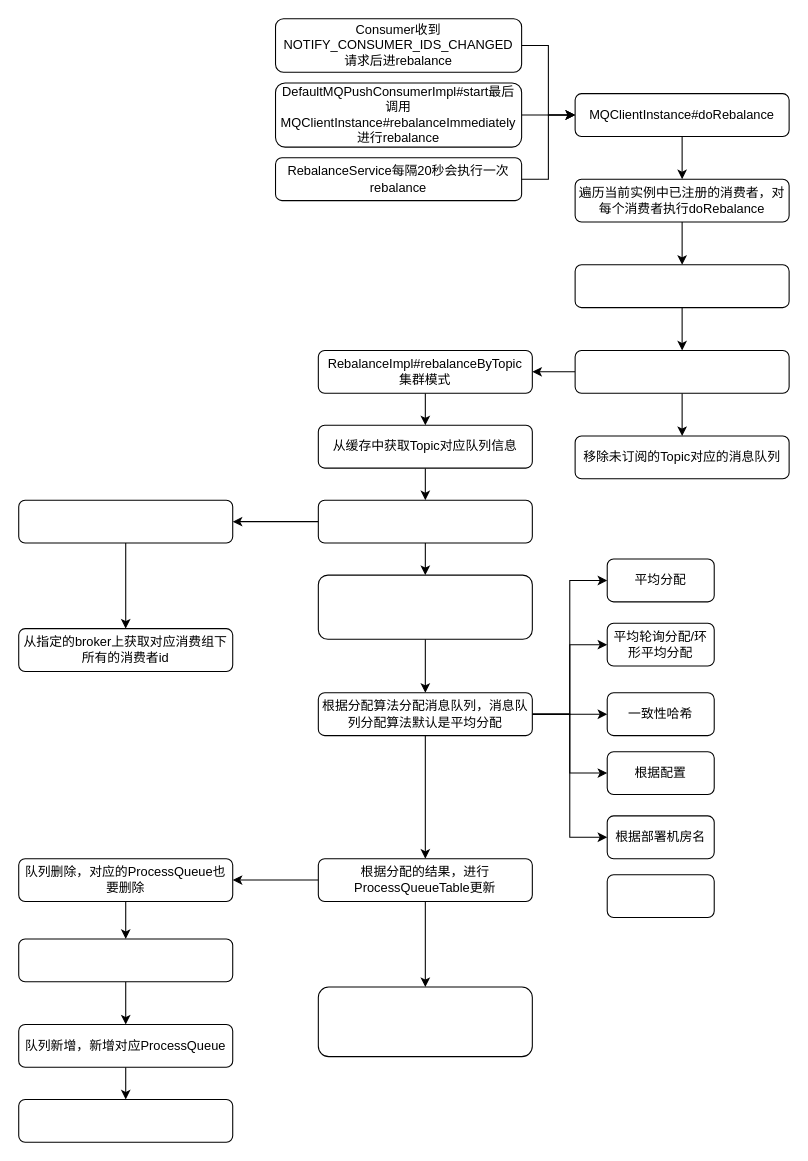
This 808x1161 diagram has some shape labels left out. The centre of each missing label's shape, as x and y in pixels:
ProcessQueue超过2分钟没有拉取下次，也需要删除: the point at 125,960
RebalanceImpl#doRebalance: the point at 681,286
rebalance后有变化的话，有新增或者删除队列，需要更新订阅数据版本，发送心跳通知所有Broker订阅关系有变化: the point at 424,1021
从Broker中获取消费组内所有Consumer客户端id: the point at 424,521
基于机房临近分配: the point at 660,896
将topic对应队列和Broker上获取的消费者id进行排序，保证同一消费组内看到的视图保持一致: the point at 424,606
新建拉取消息请求，让新增的队列加入到拉取消息的工作中去: the point at 125,1120
根据topic从缓存或者从Nameserver中获取对应的broker地址，随机找一个broker地址: the point at 125,521
遍历subscriptionInner中的Topic对应的订阅数据进行rebalance: the point at 681,371
